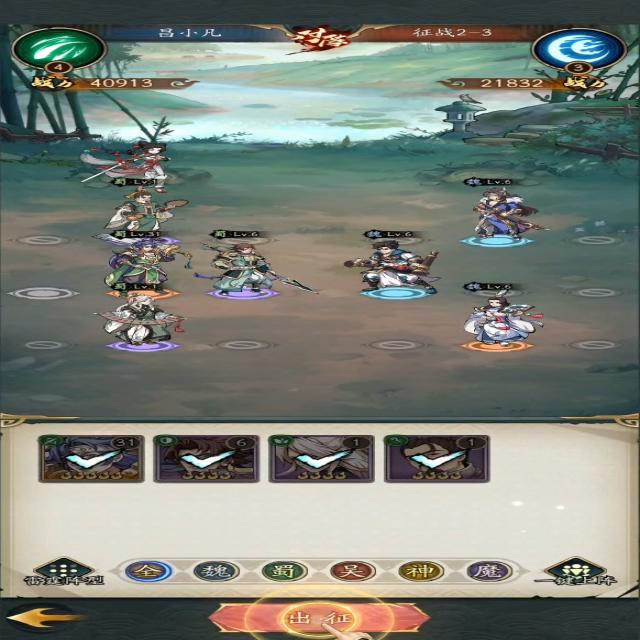hint-guide: (247, 584, 398, 640)
navigation-myHeroes: (380, 432, 500, 485), (149, 432, 264, 486), (266, 431, 378, 485), (33, 431, 147, 484)
operation-back: (0, 602, 95, 632)
operation-camp: (253, 556, 310, 582), (461, 558, 514, 584), (122, 558, 176, 583), (394, 558, 448, 583), (186, 559, 243, 582), (326, 558, 378, 583)
operation-confirm: (196, 603, 437, 634)
operation-deployment: (15, 553, 110, 588)
operation-oneKeyDeployment: (534, 552, 616, 589)
